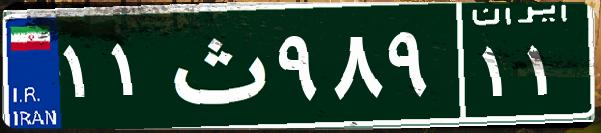1: (57, 26, 110, 107), (475, 38, 525, 113), (110, 28, 158, 105), (525, 38, 570, 115)
8: (330, 28, 385, 110)
9: (385, 28, 445, 110), (273, 28, 330, 110)
ث: (158, 15, 273, 115)
